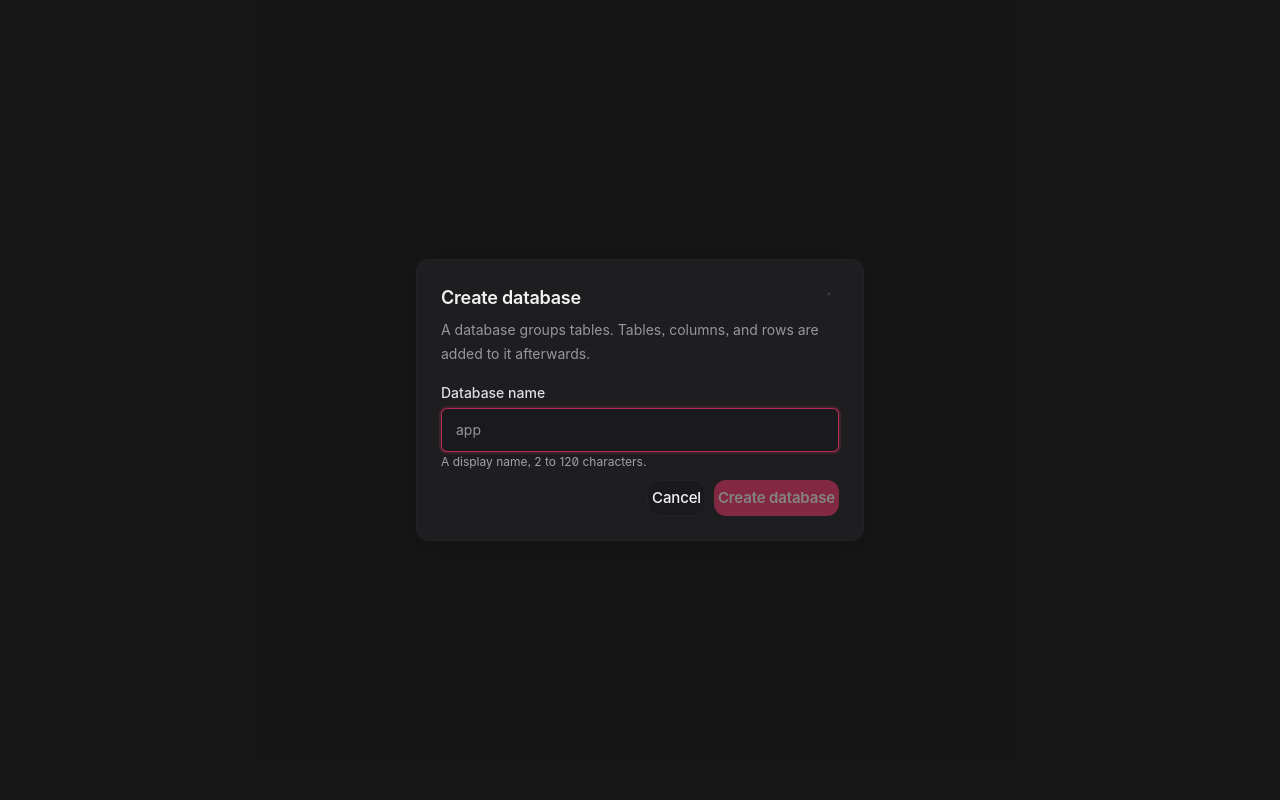
Test case: CreateDatabaseDialog › refuses a name shorter than two characters
Type "a" into the field labelled "Database name" at (640, 430), box [441,408,839,452]
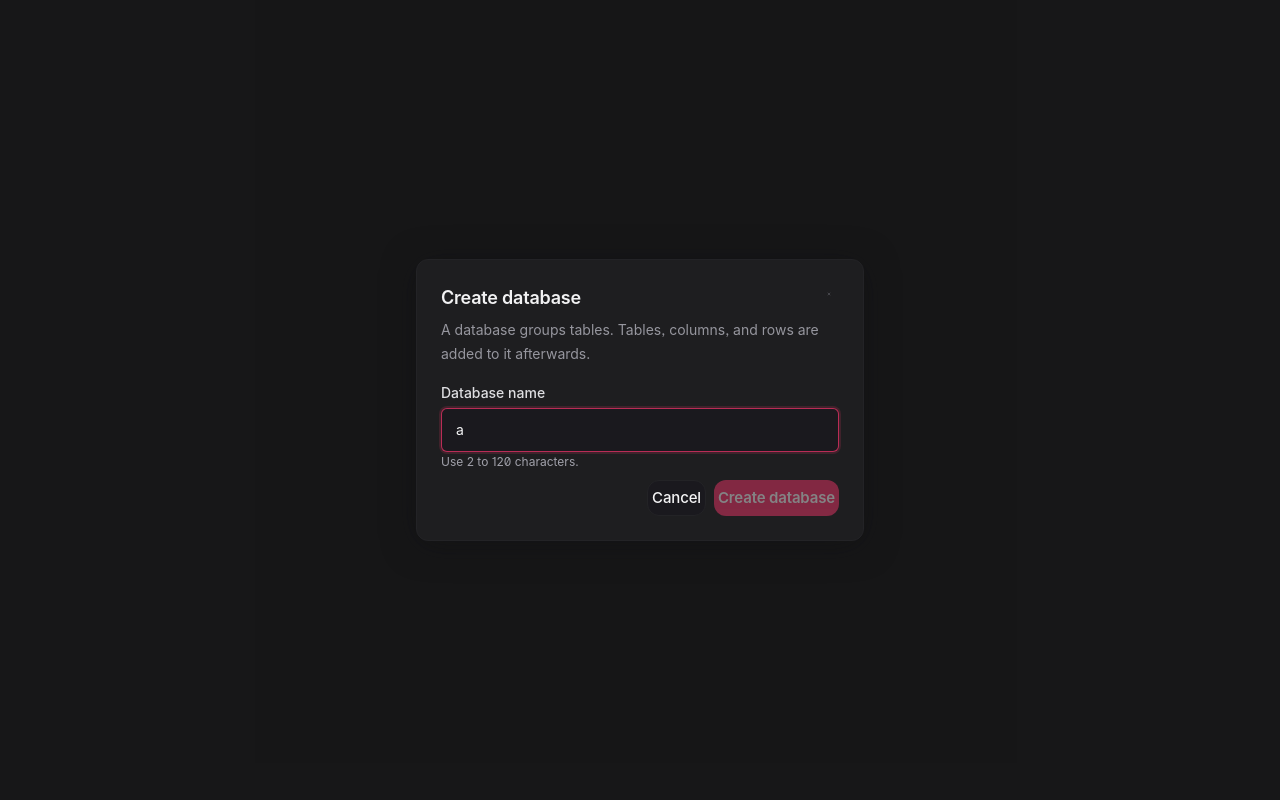
Check: the button "Create database" is disabled, box [714,480,839,516]
Check: the text "Use 2 to 120 characters." is shown, box [441,454,579,469]
